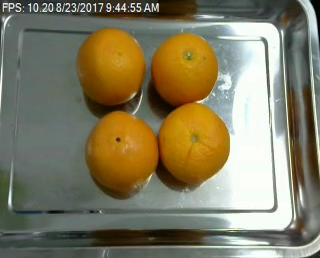Orange: (84, 109, 157, 191), (159, 103, 231, 184), (78, 26, 146, 105), (152, 33, 219, 105)
